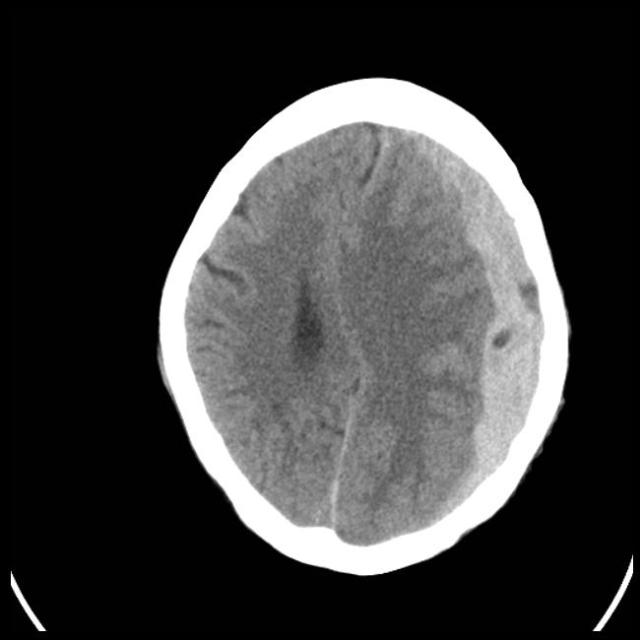lesion: (156, 79, 572, 574)
